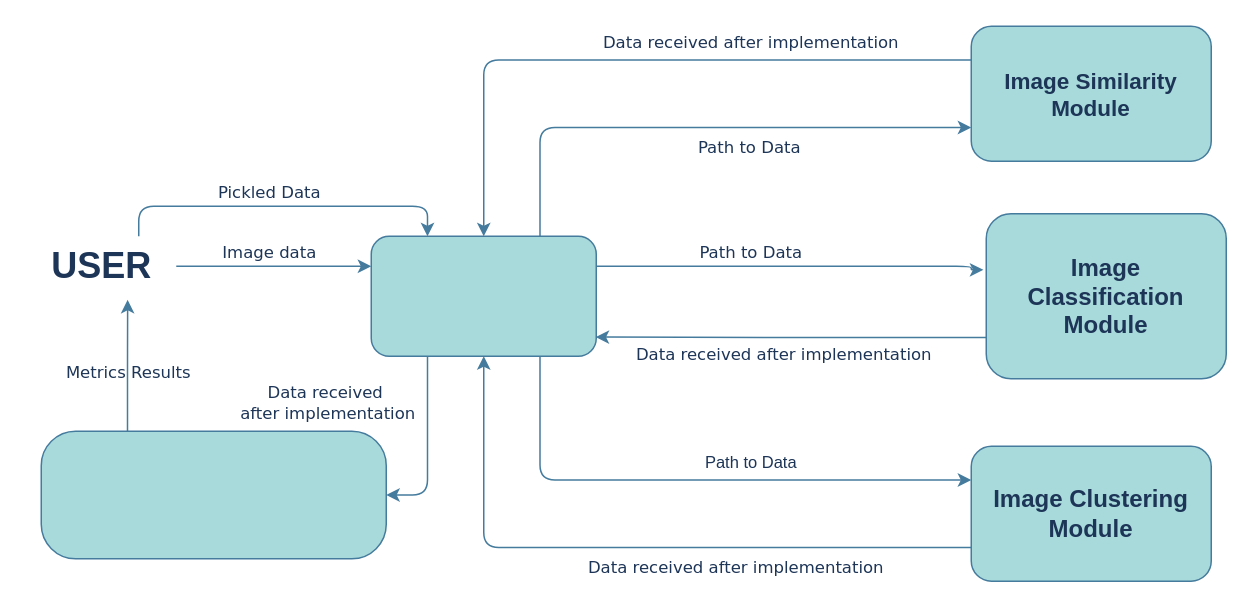
Image size: 1253x608. Some labels were removed from this diagram. The shapes that lost their labels are listed below. From the top down, each one's box as (x1, y1, x2, y2) in pixels, then its label:
(370, 235, 596, 356): GUI Module Main Window
(40, 430, 386, 559): Data Visualization Module Secondary Window
